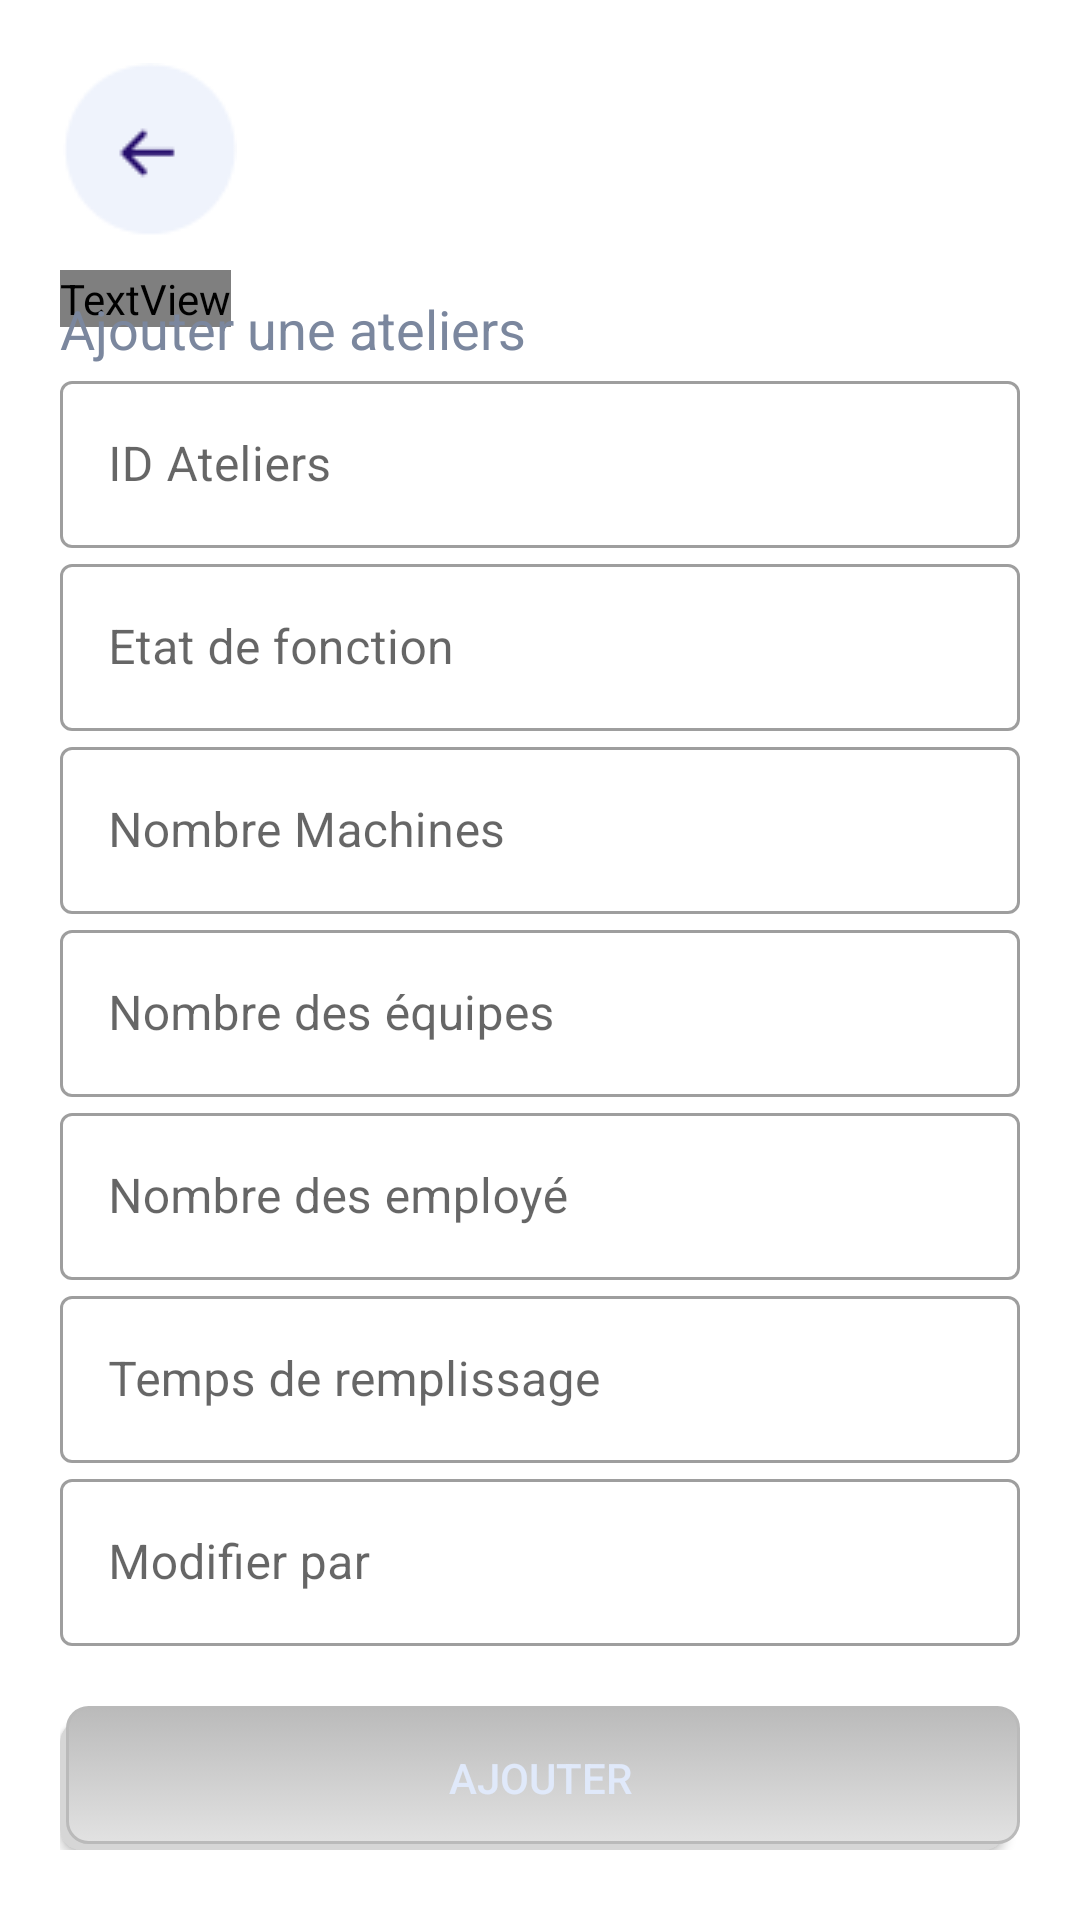

Point at icon controls on the screen. Image size 1080 × 1920, points as [x,y].
arrow: [150,149]
